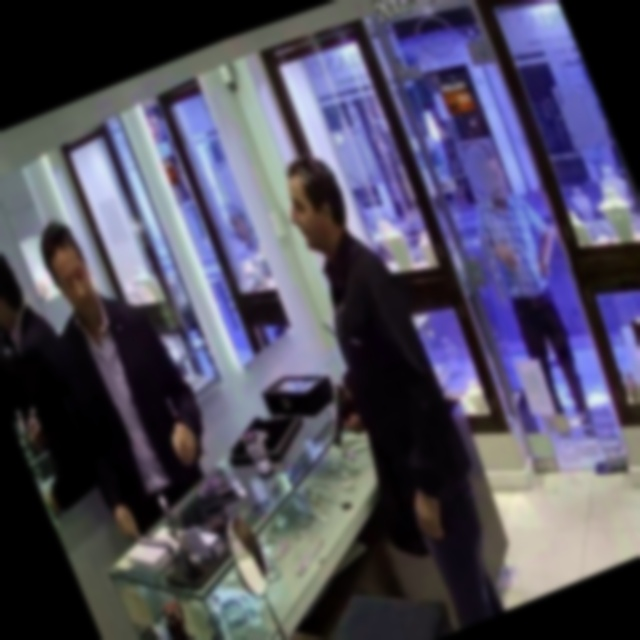gun: (303, 363, 381, 464)
